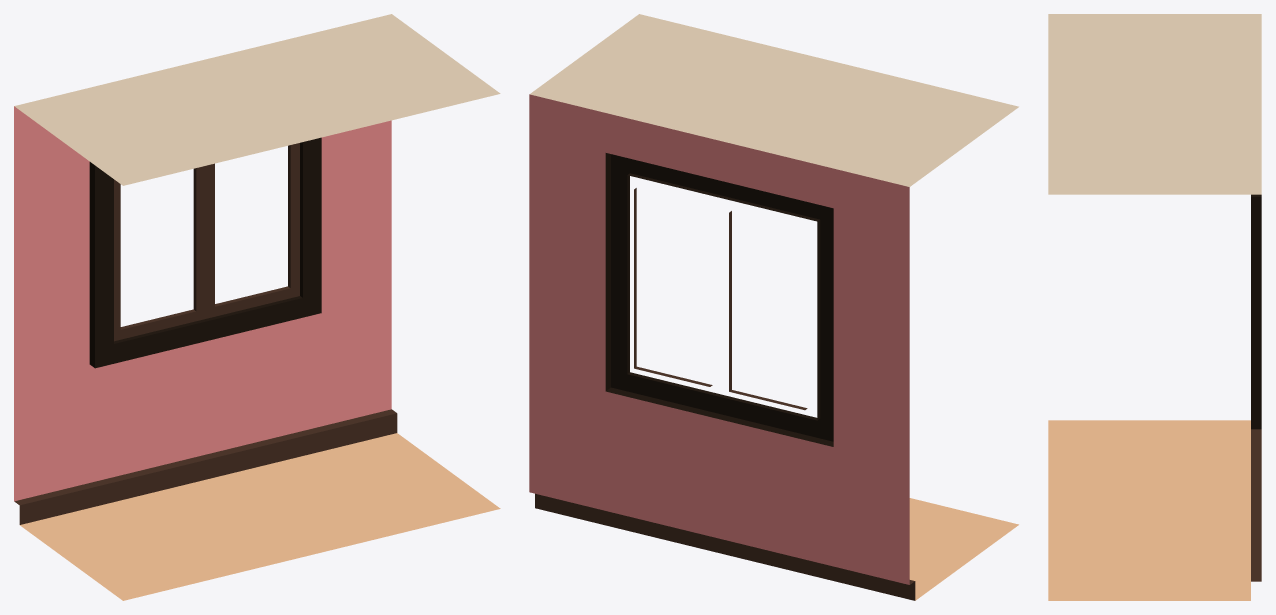
The model's file is Couloir_fenetre_1_1x2.fbx.
The picture shows the model from 3 angles, left to right: view 1: azimuth 30°, elevation 25°; view 2: azimuth 150°, elevation 25°; view 3: azimuth 270°, elevation 25°; orthographic projection. The views are drawn at different scales.
Parts seen in each view (by area): view 1: Couloir_fenetre_1_1x2; view 2: Couloir_fenetre_1_1x2; view 3: Couloir_fenetre_1_1x2.
Boxes of the visible parts, box(x1,y1,x2,y2) form: Couloir_fenetre_1_1x2: box(14, 14, 500, 600); Couloir_fenetre_1_1x2: box(529, 14, 1018, 600); Couloir_fenetre_1_1x2: box(1048, 14, 1261, 600).
Bounding box in the file's own units: 2 × 2.1 × 1.
